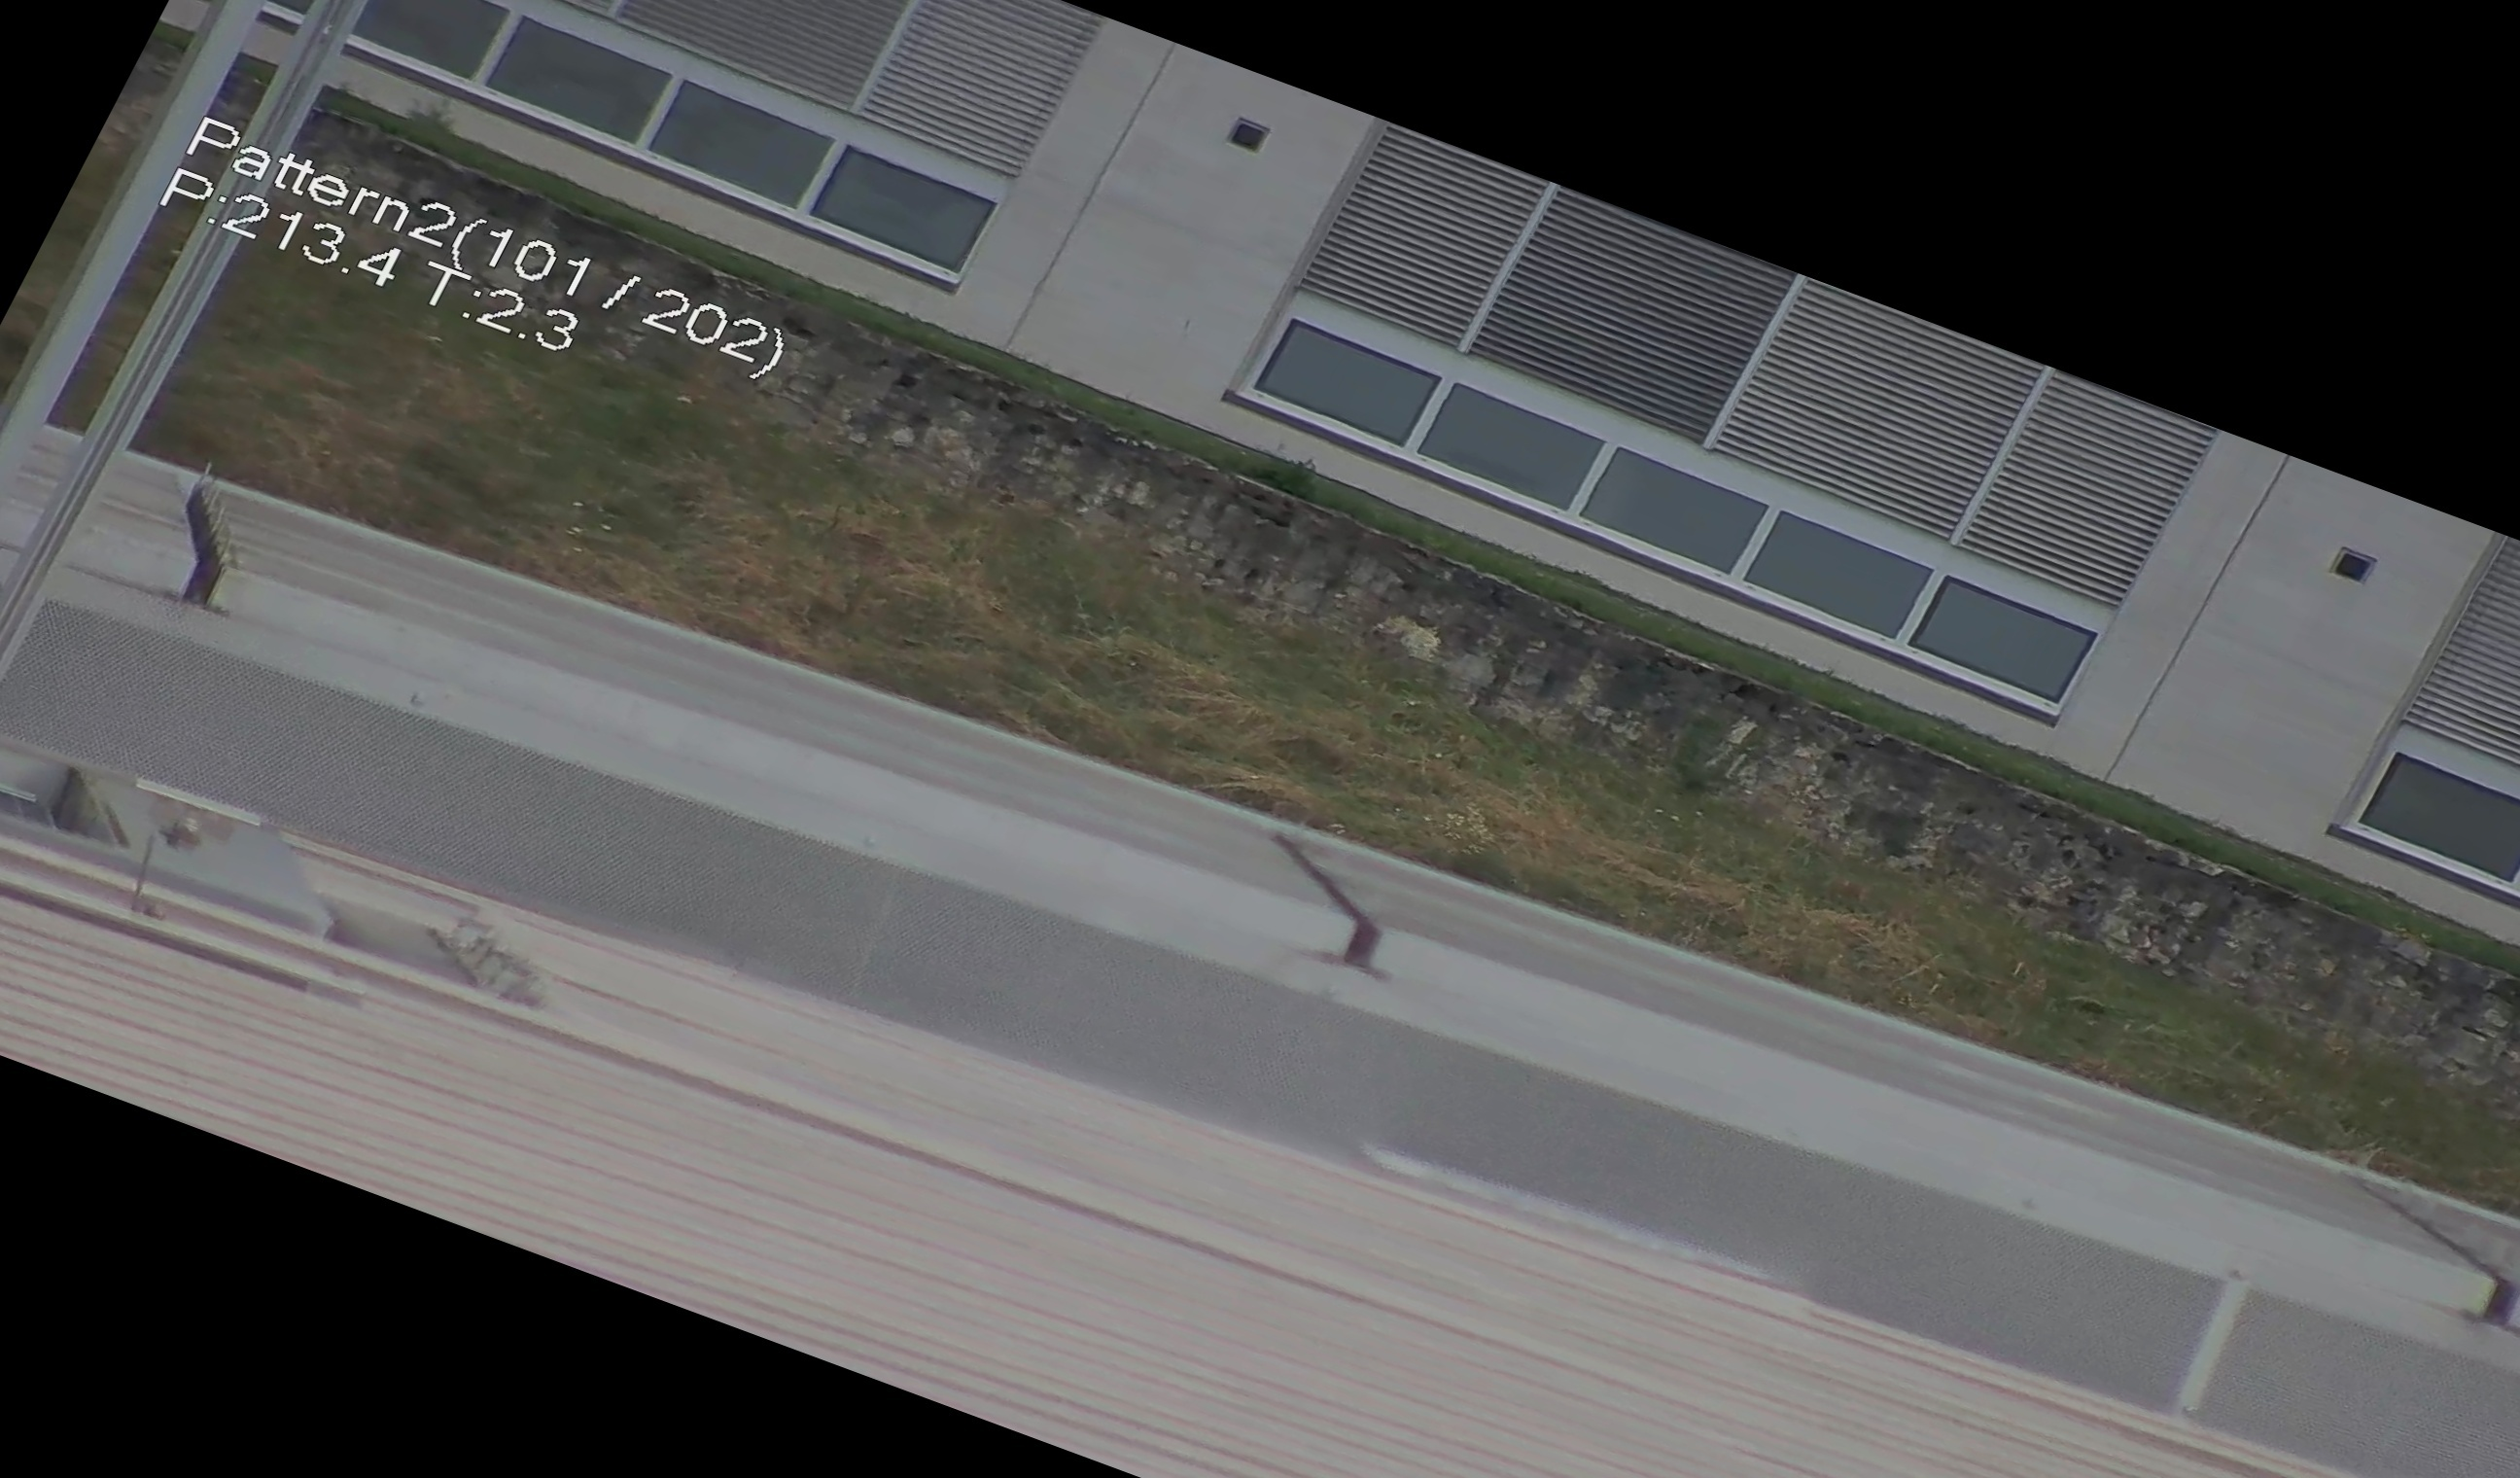Other: (121, 456, 294, 626)
